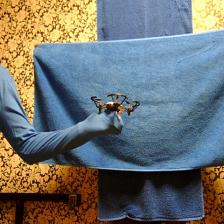drone: (92, 92, 140, 122)
